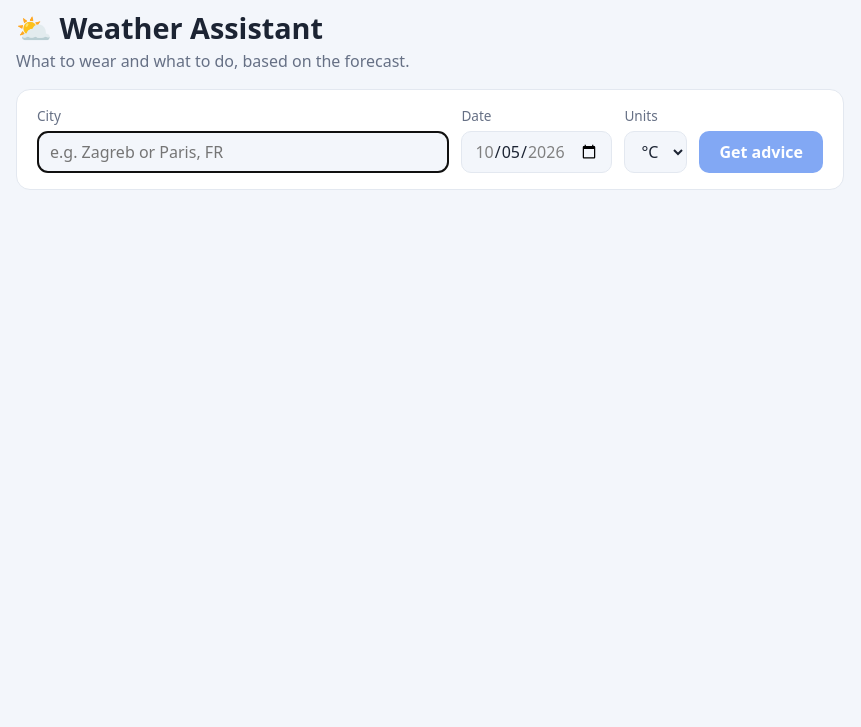
Test: App › sends the form values and renders weather and recommendations
The width and height of the screenshot is (861, 727).
In the field labelled "City": coordinates (243, 152) [37,131,449,173], type "  Zagreb "
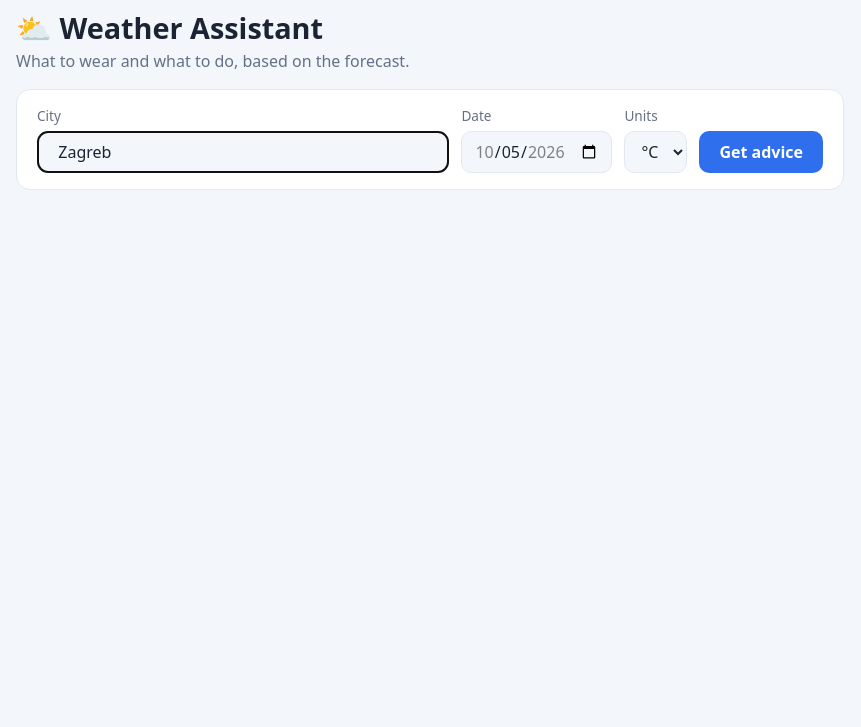
Click the button "Get advice": coordinates (761, 152) [699,131,823,173]
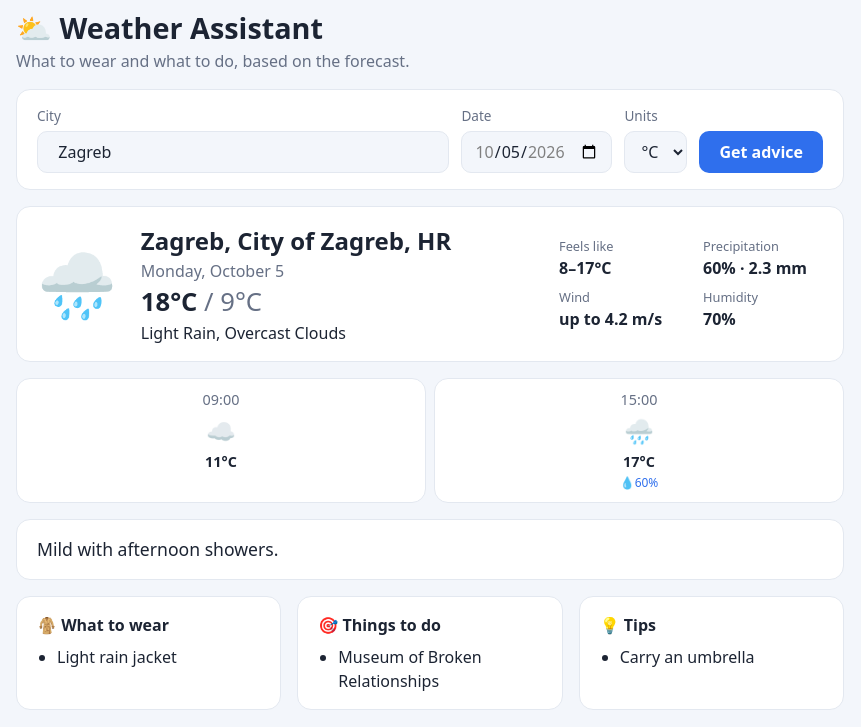
Expected: the heading "Zagreb, City of Zagreb, HR" is shown, [141,224,451,257]
Expected: the text "18°C" is shown, [141,284,197,319]
Expected: the text "Mild with afternoon showers." is shown, [16,519,844,580]
